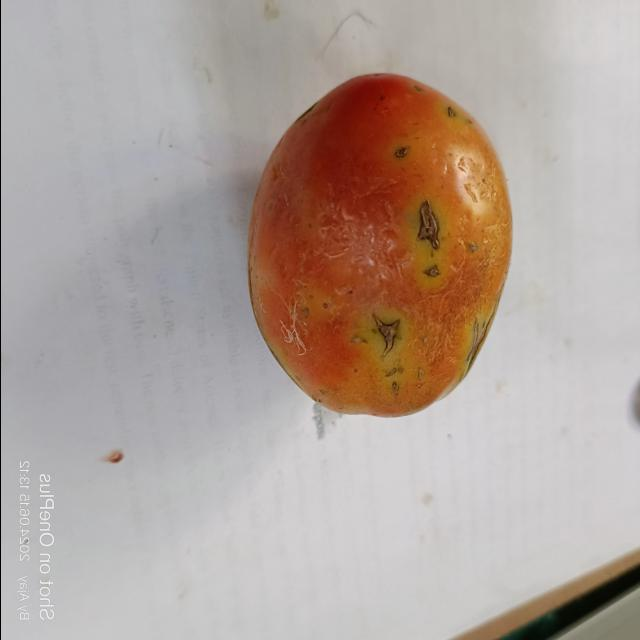Bacterial_Spot: (416, 202, 448, 278), (374, 314, 406, 352), (442, 100, 462, 120), (391, 142, 412, 160)
